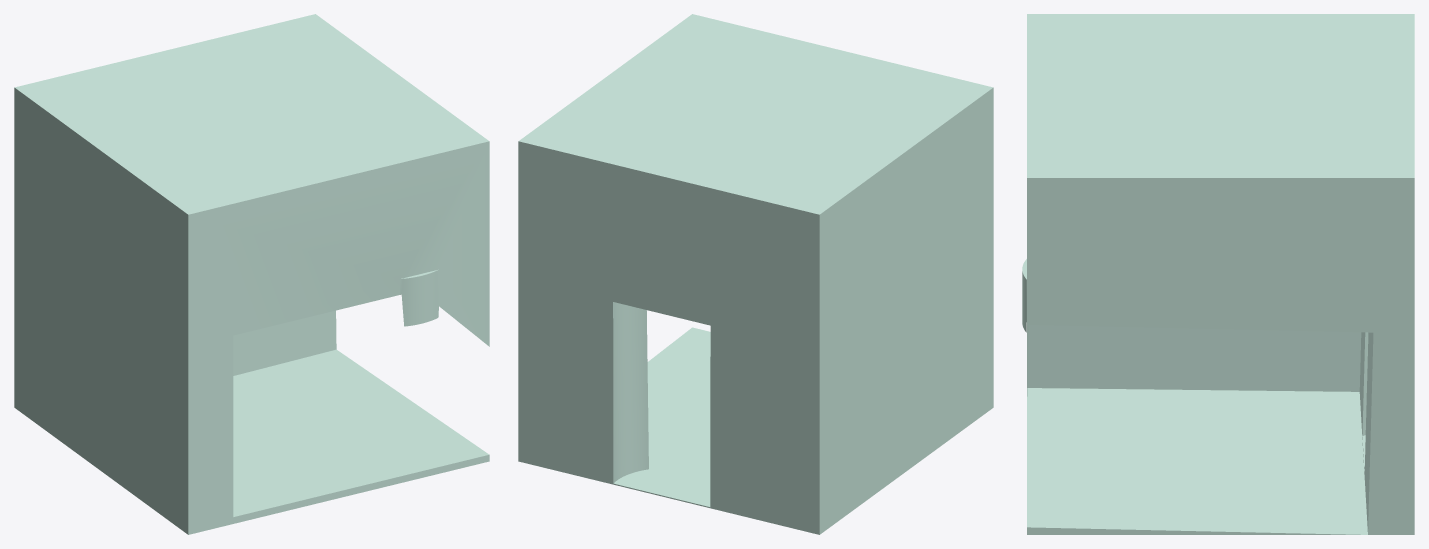
3 renders of one model, left to right at view 1: azimuth 30°, elevation 25°; view 2: azimuth 150°, elevation 25°; view 3: azimuth 270°, elevation 25°, orthographic. The views are drawn at different scales.
Parts seen in each view (by area): view 1: Renderer Node; view 2: Renderer Node; view 3: Renderer Node.
Part boxes in pixels (x1,y1,x2,y2): Renderer Node: (14, 14, 489, 534); Renderer Node: (518, 14, 993, 534); Renderer Node: (1022, 14, 1414, 534).
Bounding box in the file's own units: 0.9766 × 0.9922 × 0.9881.
